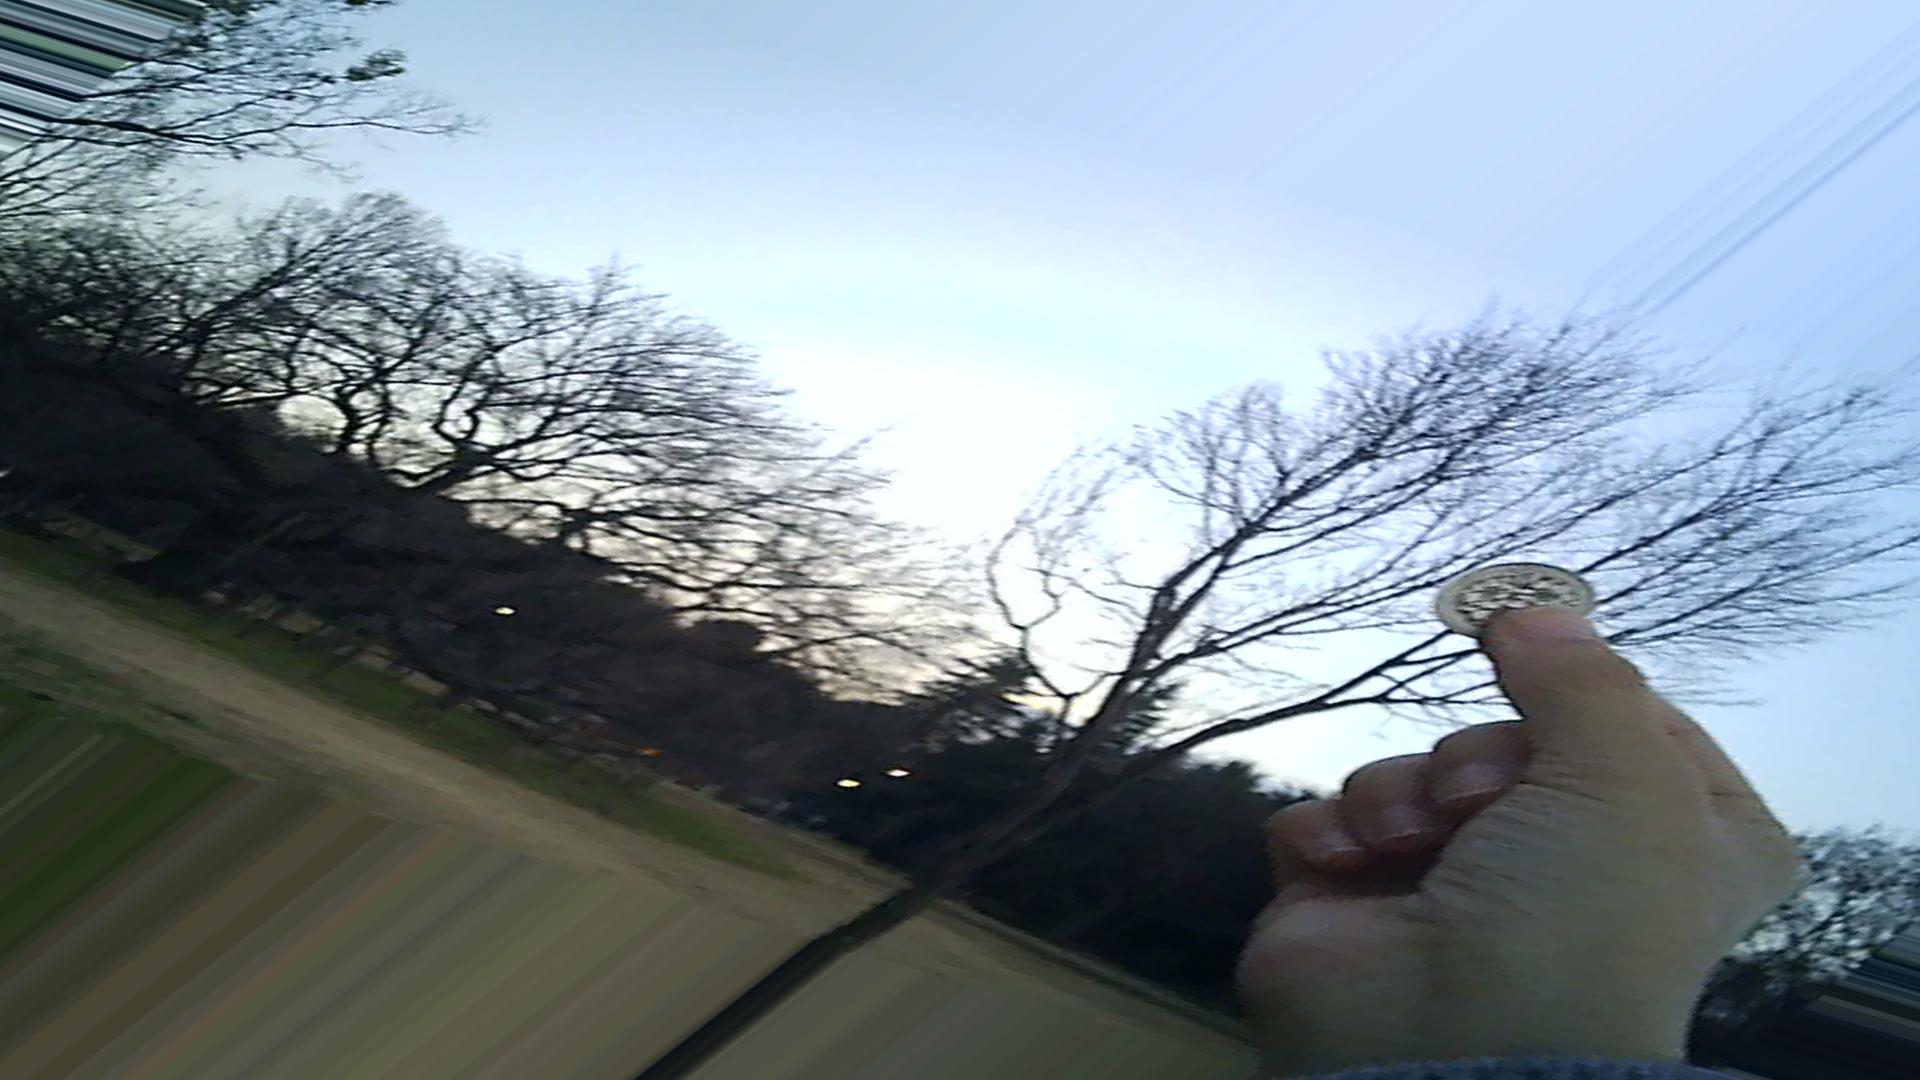100 Yen: (1437, 560, 1593, 647)
